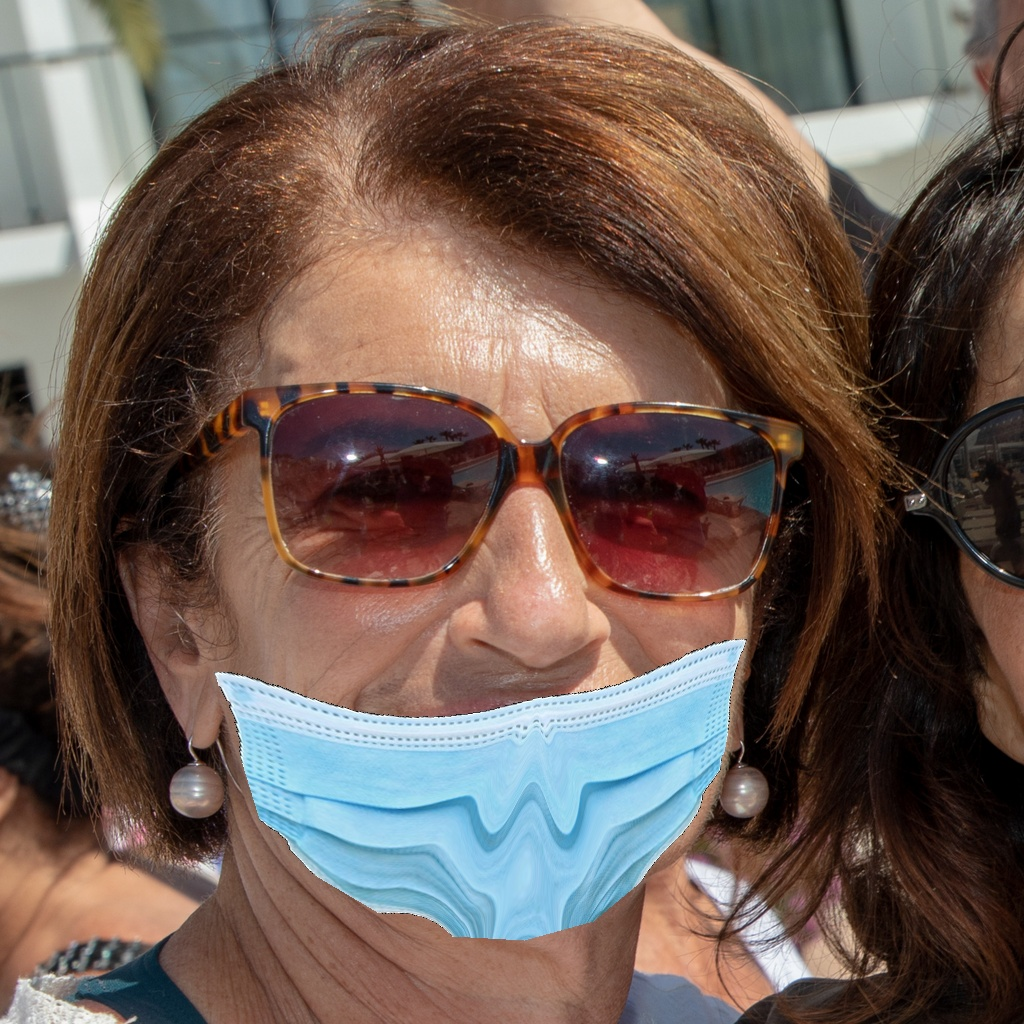mascarilla_mal_puesta: (152, 413, 752, 938)
